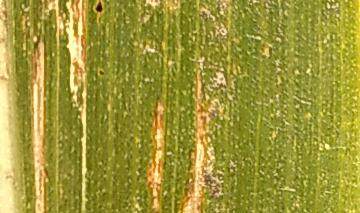tarspot: (92, 1, 104, 14), (97, 67, 105, 76)
